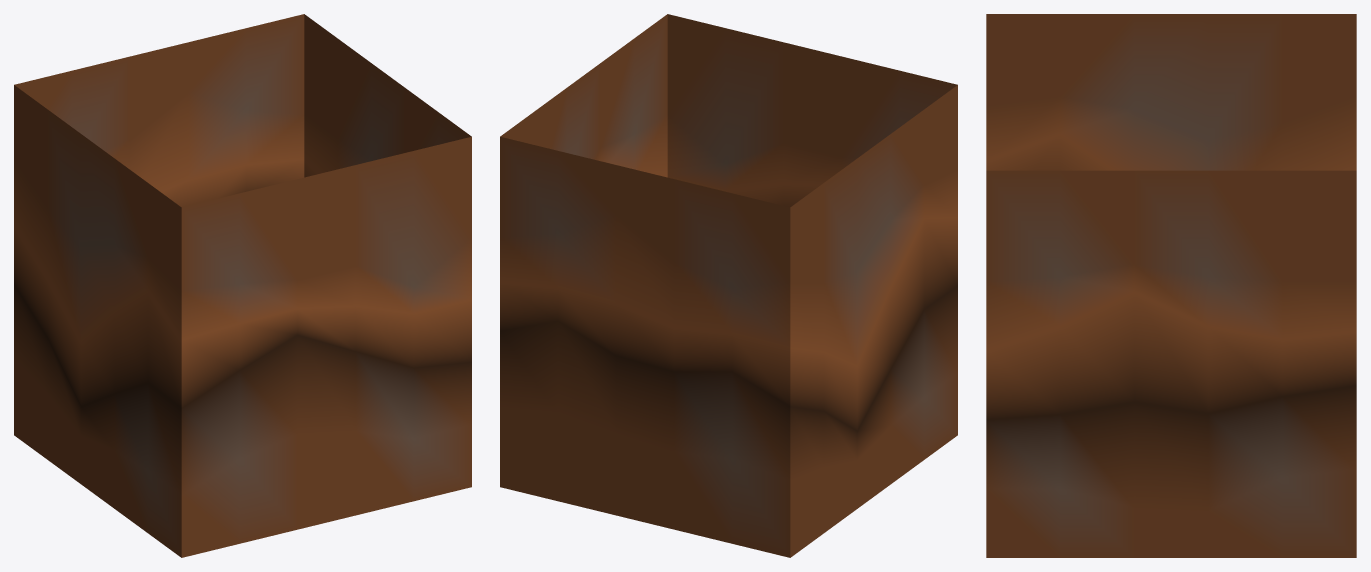
The model's file is DirtBlock2.fbx.
3 renders of one model, left to right at view 1: azimuth 30°, elevation 25°; view 2: azimuth 150°, elevation 25°; view 3: azimuth 270°, elevation 25°, orthographic. The views are drawn at different scales.
Parts seen in each view (by area): view 1: DirtBlock2; view 2: DirtBlock2; view 3: DirtBlock2.
Part boxes in pixels (x1,y1,x2,y2): DirtBlock2: (14,14,471,557); DirtBlock2: (500,14,957,557); DirtBlock2: (986,14,1356,557).
Bounding box in the file's own units: 200 × 231 × 200.
